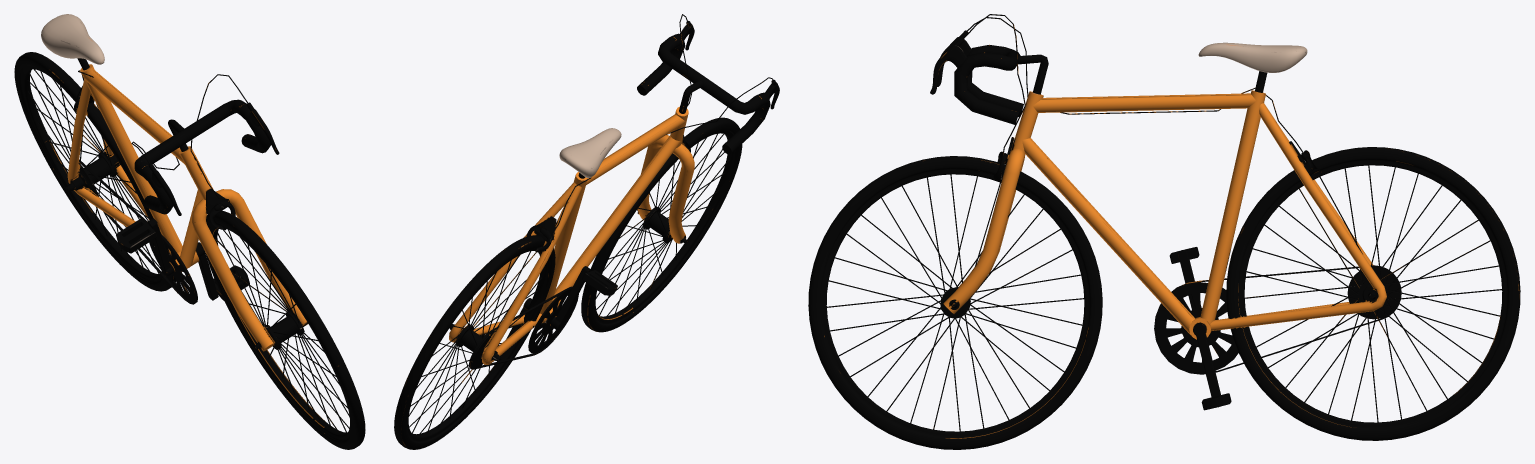
Rendered from int_109.fbx.
3 views of the same model, side by side, from view 1: azimuth 30°, elevation 25°; view 2: azimuth 150°, elevation 25°; view 3: azimuth 270°, elevation 25° (orthographic). The views are drawn at different scales.
Parts seen in each view (by area): view 1: bici.001; view 2: bici.001; view 3: bici.001.
Boxes of the visible parts, x1,y1,x2,y2 form: bici.001: (14, 14, 365, 449); bici.001: (394, 14, 779, 449); bici.001: (808, 14, 1520, 449).
Bounding box in the file's own units: 112 × 182 × 298.
Materials: 1 (1 with a texture image).
